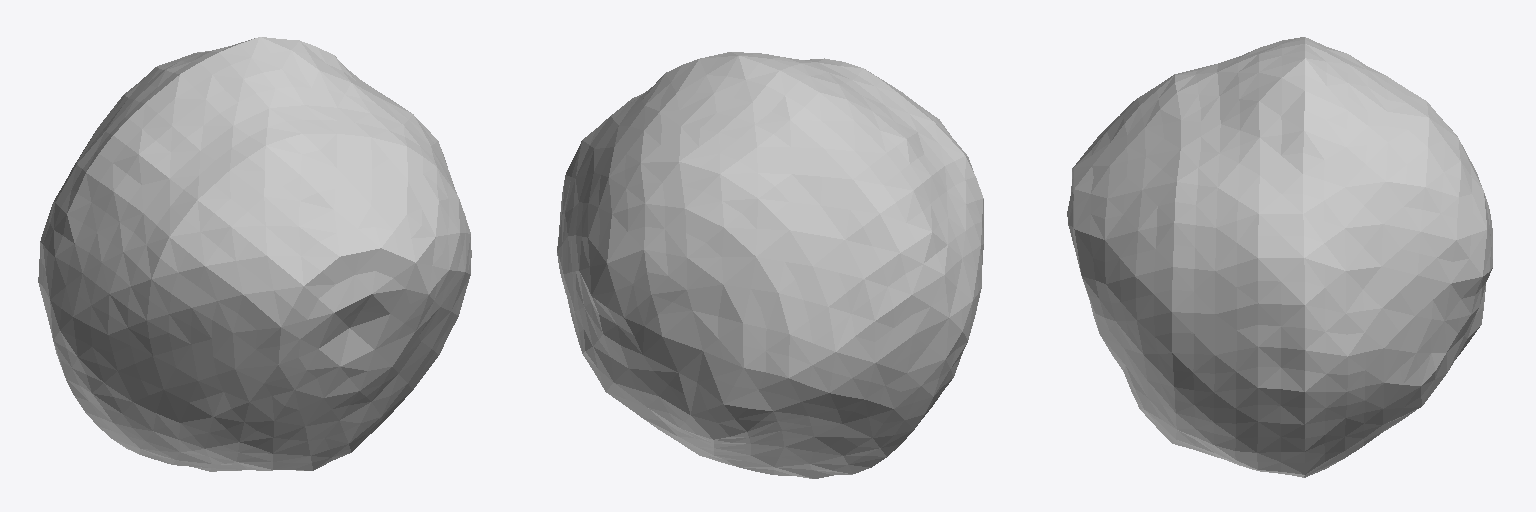
File: didymain2019.obj
3 views of the same model, side by side, from view 1: azimuth 30°, elevation 25°; view 2: azimuth 150°, elevation 25°; view 3: azimuth 270°, elevation 25° (orthographic).
Size of the model in its own units: 0.8324 by 0.8375 by 0.7862.